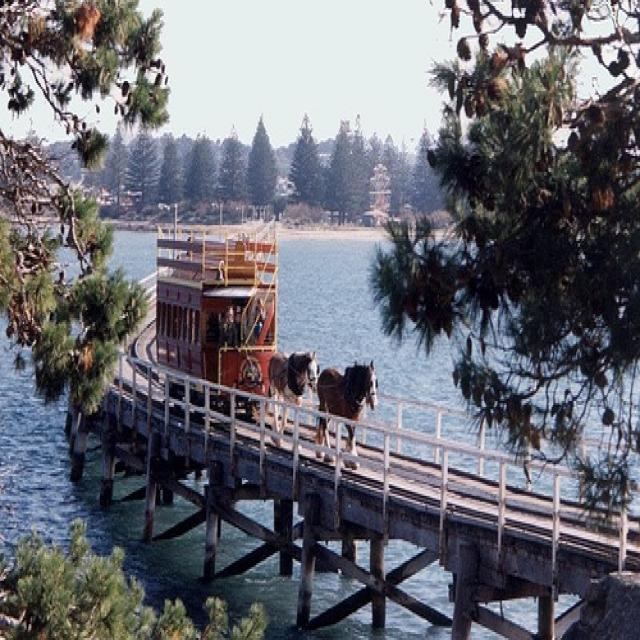horse: (316, 361, 378, 471), (271, 351, 317, 446)
